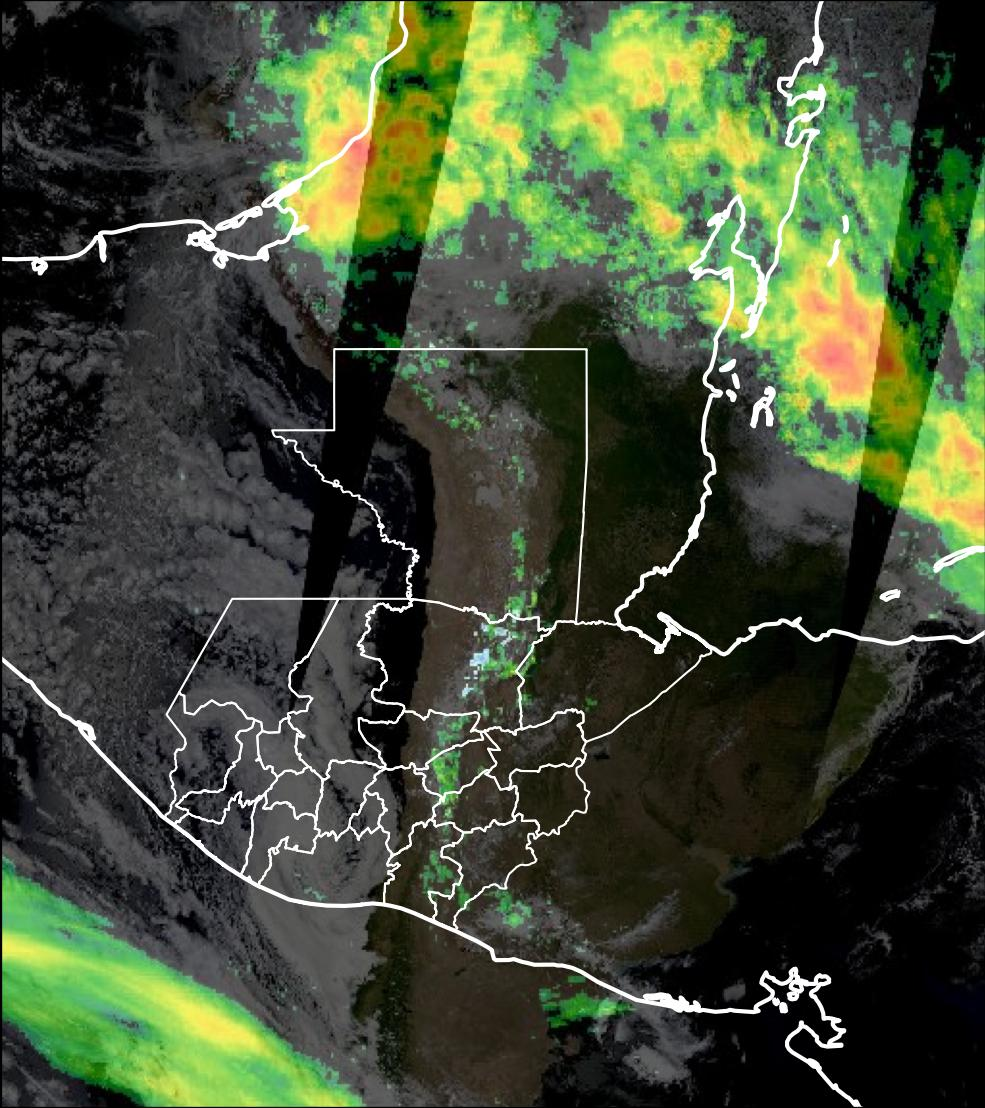precipitacion: (793, 273, 910, 414), (312, 120, 384, 185)
